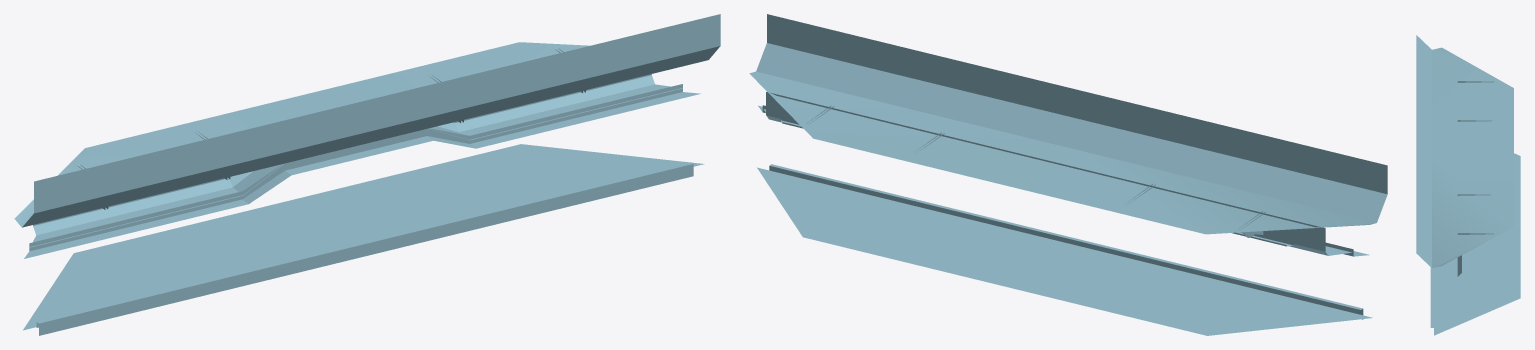
Rendered from BC_Collider_Dbd_JianZhu.FBX.
The picture shows the model from 3 angles, left to right: view 1: azimuth 30°, elevation 25°; view 2: azimuth 150°, elevation 25°; view 3: azimuth 270°, elevation 25°; orthographic projection. The views are drawn at different scales.
Parts seen in each view (by area): view 1: BC_Collider_Dbd_JianZhu; view 2: BC_Collider_Dbd_JianZhu; view 3: BC_Collider_Dbd_JianZhu.
Part boxes in pixels (bbox=[...]): BC_Collider_Dbd_JianZhu: bbox=[14, 14, 720, 335]; BC_Collider_Dbd_JianZhu: bbox=[749, 14, 1387, 335]; BC_Collider_Dbd_JianZhu: bbox=[1416, 35, 1520, 335].
Size of the model in its own units: 57.09 by 13.22 by 11.5.
